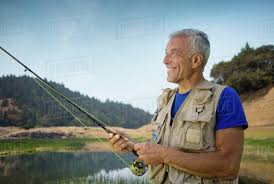white_male: (152, 31, 197, 87)
